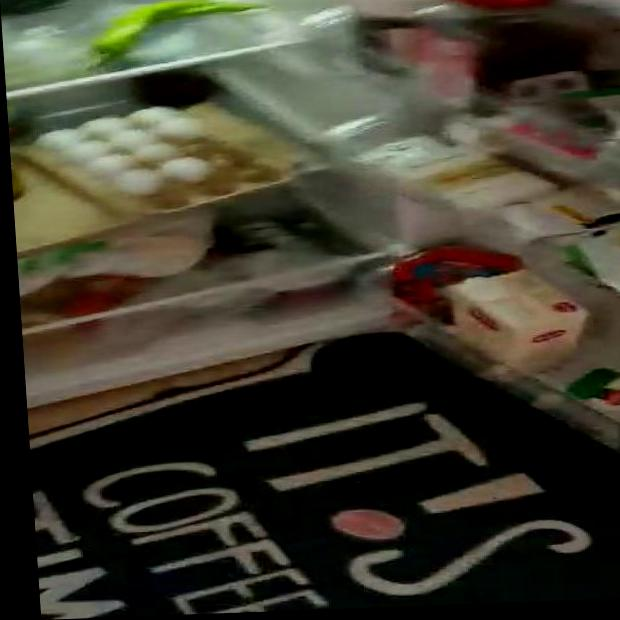eggs: (60, 106, 230, 190)
green chilies: (89, 0, 241, 59)
milk: (453, 267, 588, 367)
